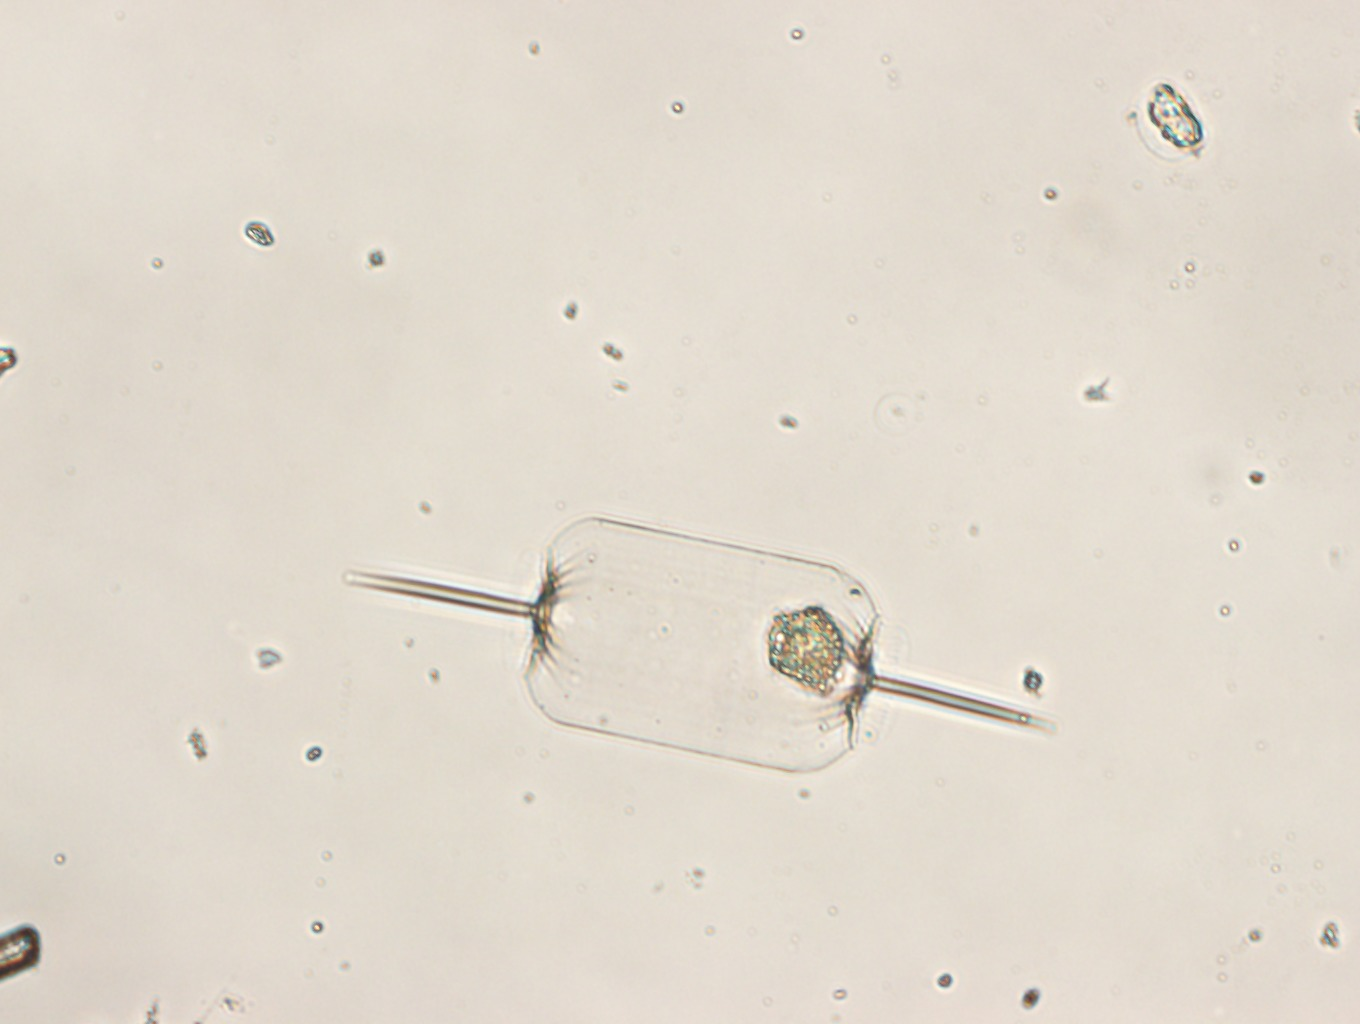ditylum: (342, 513, 1048, 773)
